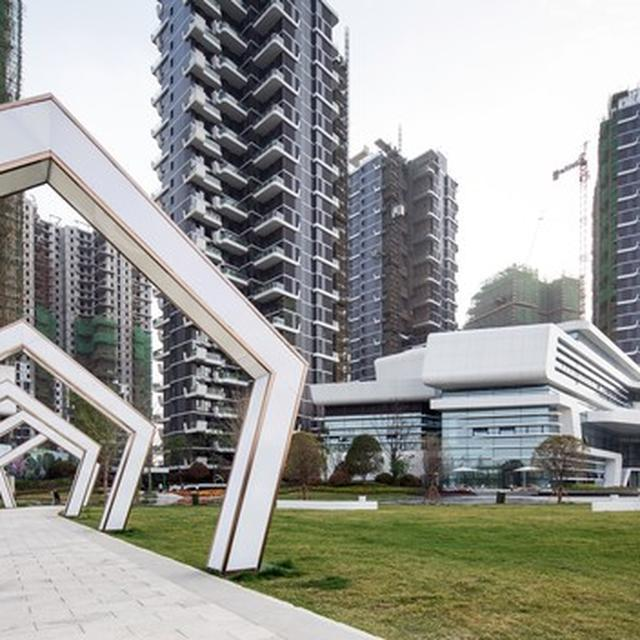building: (151, 0, 338, 481), (317, 312, 640, 489), (3, 201, 157, 478), (332, 128, 461, 342), (587, 92, 640, 357)
